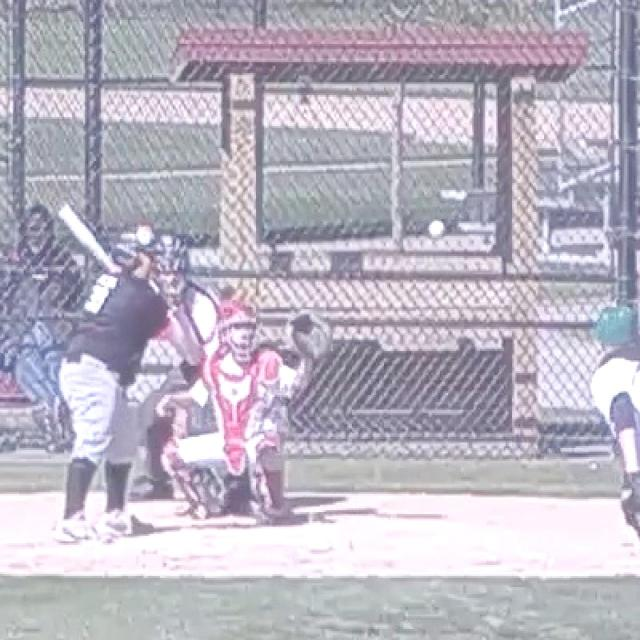baseball: (430, 221, 444, 237)
